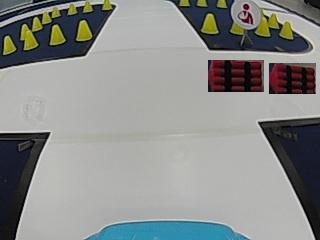cone: (201, 13, 219, 34), (49, 25, 66, 45), (23, 27, 38, 49), (76, 20, 92, 40), (256, 16, 270, 37), (279, 21, 293, 39), (3, 35, 16, 54), (32, 16, 43, 30), (82, 0, 93, 13), (101, 0, 112, 11), (67, 3, 77, 15), (41, 11, 51, 23), (51, 6, 61, 17), (215, 0, 227, 8), (177, 0, 190, 7), (195, 0, 207, 7)
patient: (235, 0, 260, 28)
